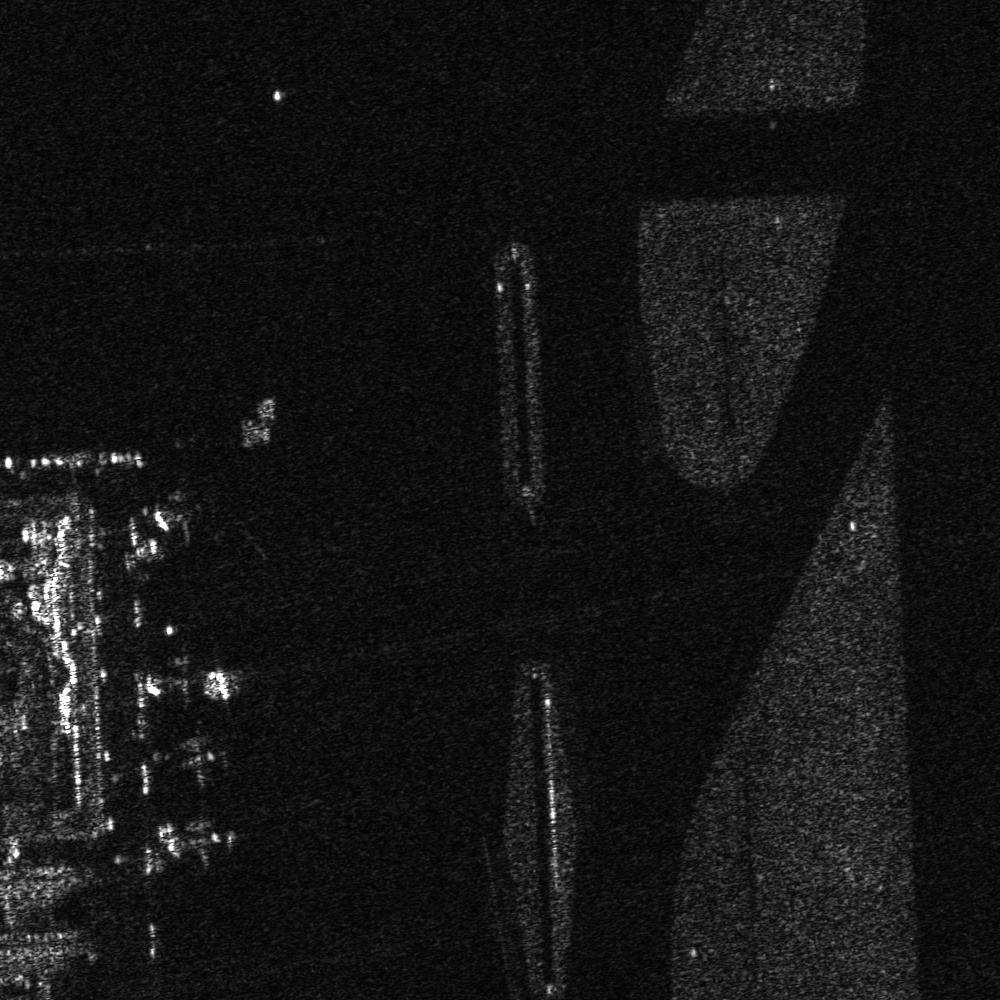A220: (147, 644, 245, 710), (159, 806, 248, 873), (162, 732, 239, 793), (143, 503, 194, 561)
